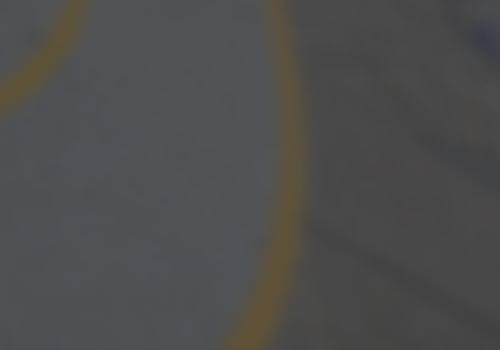Apron: (35, 1, 298, 341)
